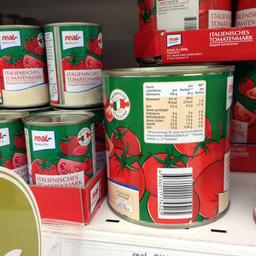tomato_sauce: (100, 62, 234, 230), (20, 110, 94, 188), (41, 20, 102, 108), (0, 23, 47, 105)
